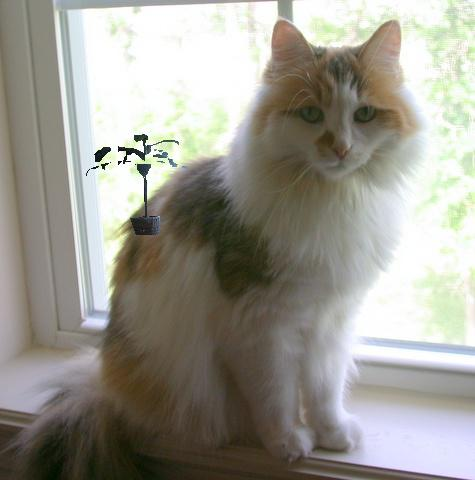tampered: (87, 135, 188, 235)
